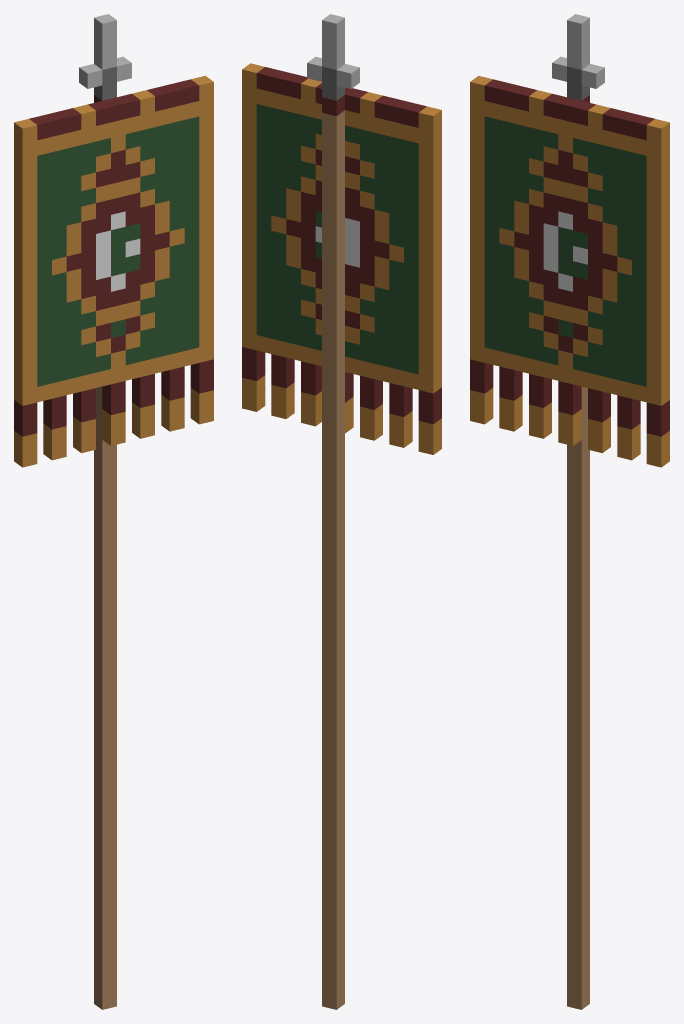
Rendered from char-18-banner_1_2_3_sh_color.obj.
3 views of the same model, side by side, from view 1: azimuth 30°, elevation 25°; view 2: azimuth 150°, elevation 25°; view 3: azimuth 330°, elevation 25° (orthographic).
Parts seen in each view (by area): view 1: banner_1_2_3_sh_color; view 2: banner_1_2_3_sh_color; view 3: banner_1_2_3_sh_color.
Part boxes in pixels (bbox=[...]): banner_1_2_3_sh_color: bbox=[14, 14, 213, 1009]; banner_1_2_3_sh_color: bbox=[242, 14, 441, 1009]; banner_1_2_3_sh_color: bbox=[470, 14, 669, 1009].
Size of the model in its own units: 1.3 by 6.4 by 0.2.
Materials: 1 (1 with a texture image).
